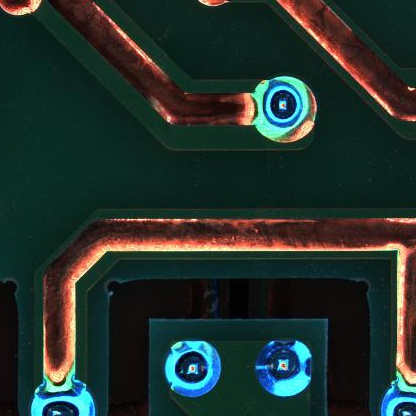spot: (252, 75, 317, 144), (164, 340, 224, 399), (256, 339, 315, 398)
